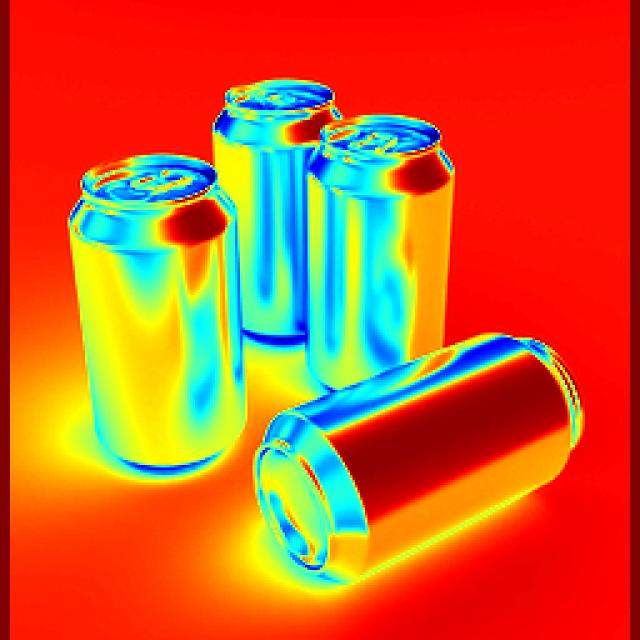Aluminium Food Cans: (274, 350, 580, 579), (69, 148, 252, 472), (314, 105, 448, 329), (206, 84, 315, 343)
